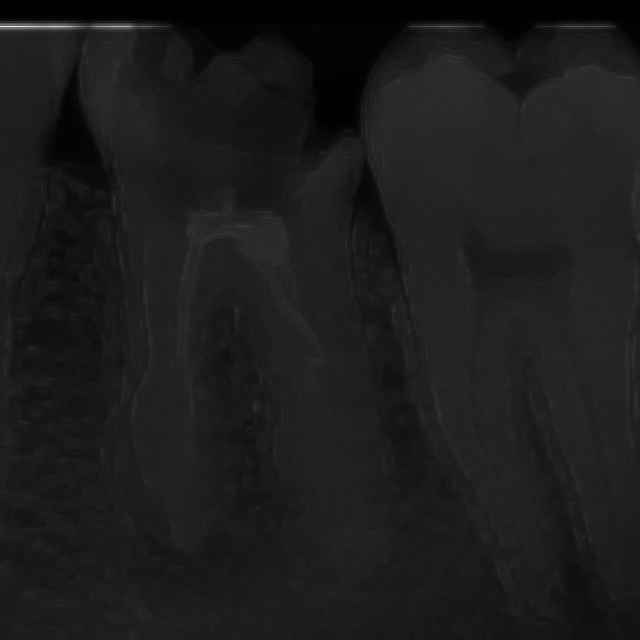Class 2- incomplete endodontic treatment: (56, 40, 430, 607)
cavity: (352, 31, 640, 622)
